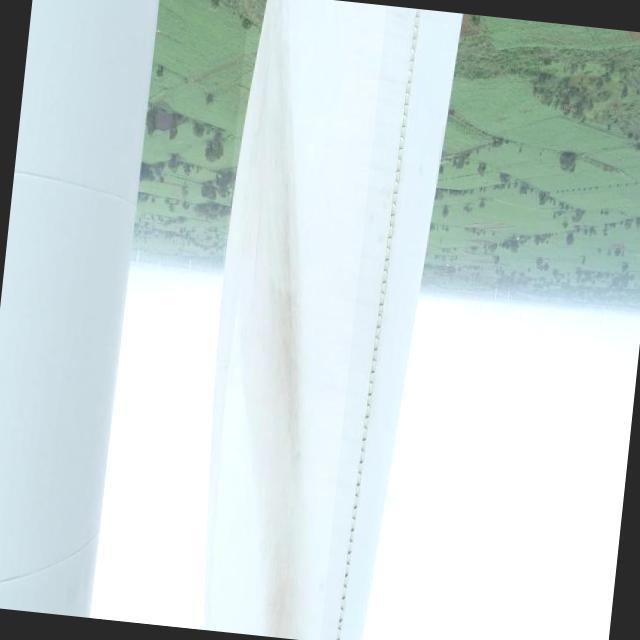Dirt: (210, 8, 306, 639)
